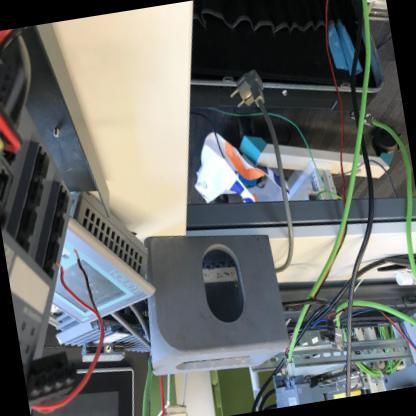CornerCasting: (128, 218, 295, 382)
